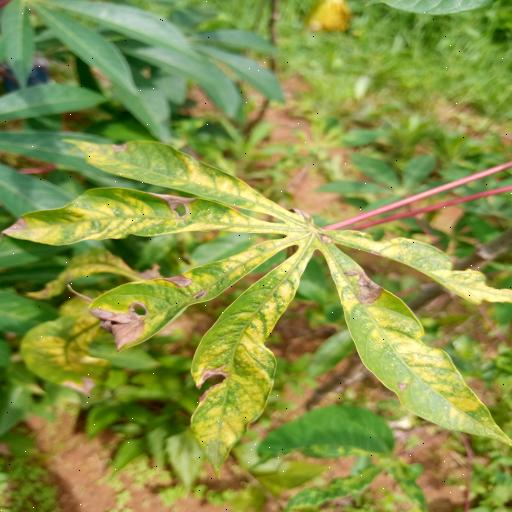Cassava_Brown_Leaf_Spot: (3, 138, 512, 481)
